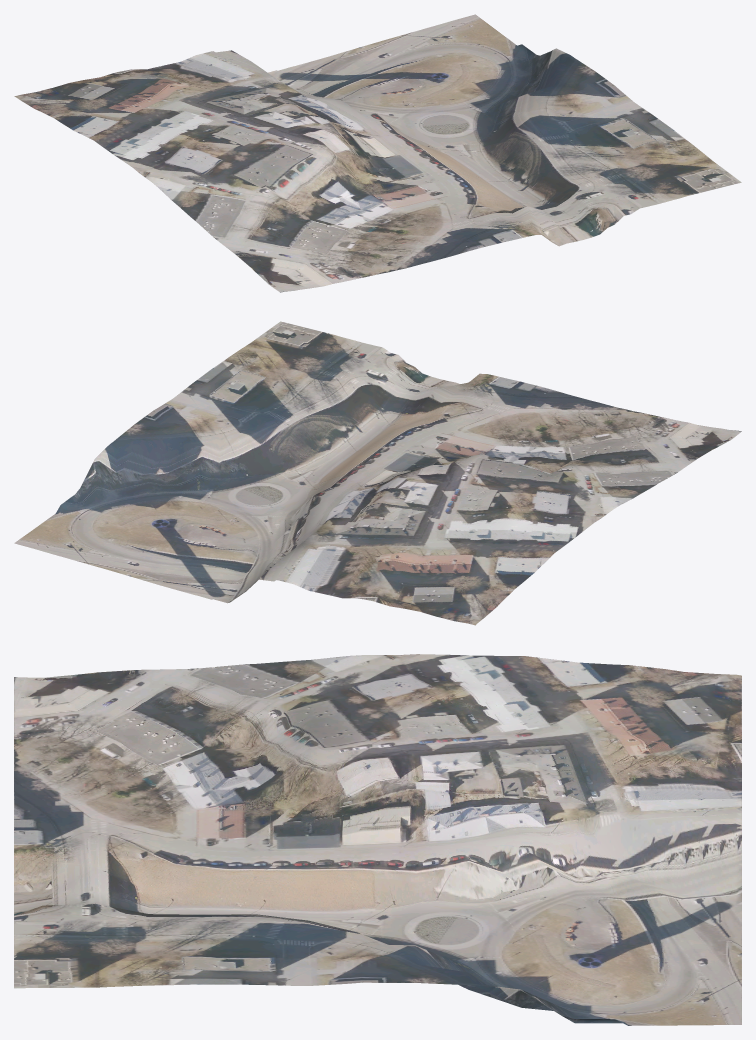
The model's file is CM_Terrain_24487797_6821841.fbx.
The picture shows the model from 3 angles, top to bottom: view 1: azimuth 30°, elevation 25°; view 2: azimuth 150°, elevation 25°; view 3: azimuth 270°, elevation 25°; orthographic projection. The views are drawn at different scales.
Parts seen in each view (by area): view 1: CM_Terrain_24487797_6821841_LOD0; view 2: CM_Terrain_24487797_6821841_LOD0; view 3: CM_Terrain_24487797_6821841_LOD0.
Part boxes in pixels (<box>): CM_Terrain_24487797_6821841_LOD0: <box>14,14,741,292</box>; CM_Terrain_24487797_6821841_LOD0: <box>14,321,741,625</box>; CM_Terrain_24487797_6821841_LOD0: <box>14,654,741,1025</box>.
Size of what is drawn, in the model's own units: 205 by 24.94 by 205.
